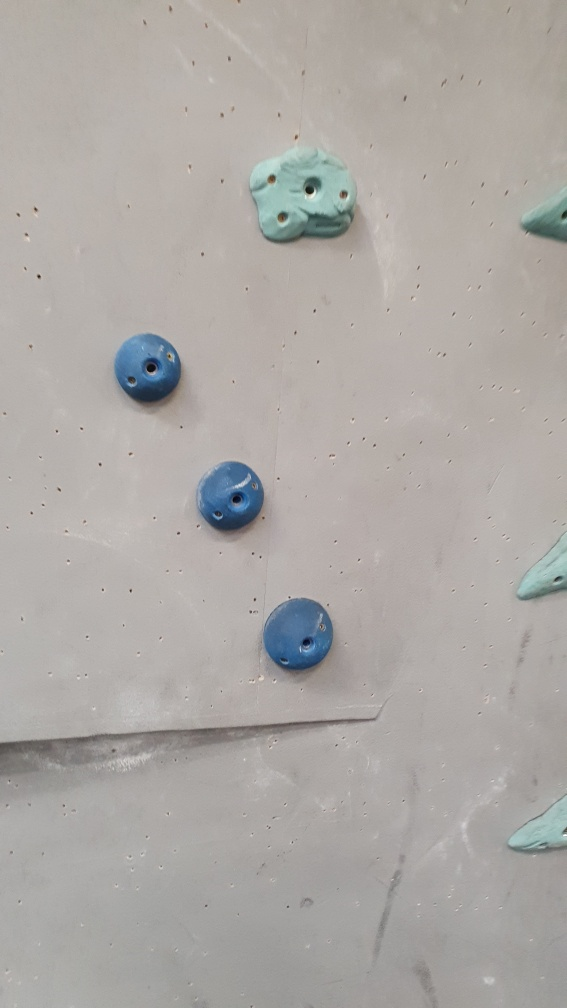Crimp: (505, 796, 567, 859), (513, 534, 567, 603), (521, 198, 567, 244)
Sloper: (262, 594, 333, 671), (113, 333, 184, 404), (198, 461, 265, 531)
